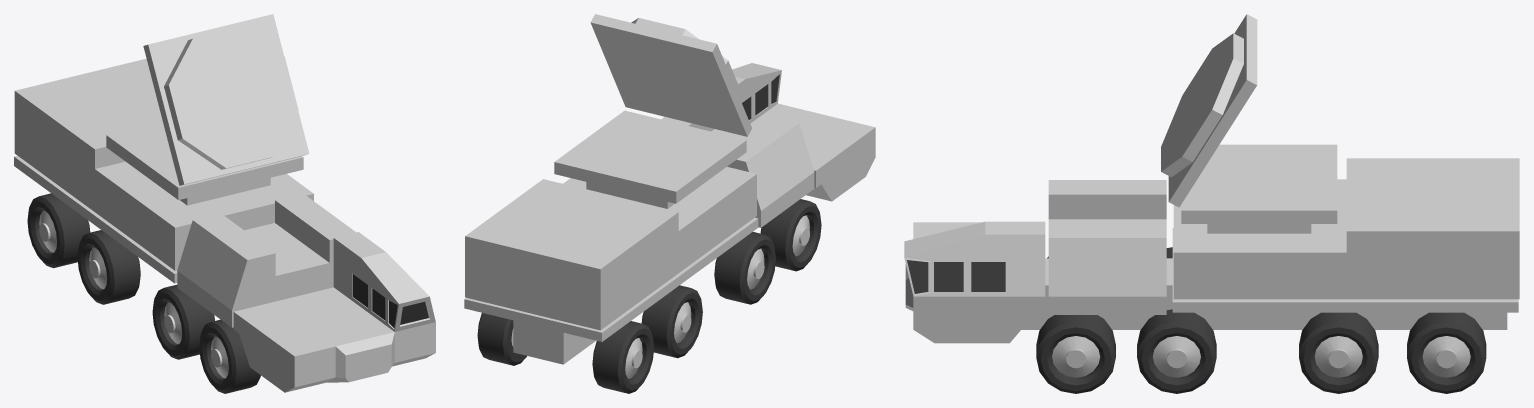
The model's file is TestRadarTruck.fbx.
The picture shows the model from 3 angles, left to right: view 1: azimuth 30°, elevation 25°; view 2: azimuth 150°, elevation 25°; view 3: azimuth 270°, elevation 25°; orthographic projection. The views are drawn at different scales.
Visible parts, largest first — view 1: 立方体.012, Radar, radarr, 柱体.002, 柱体.004, 立方体.008; view 2: radarr, Radar, 立方体.012, 柱体.002, 柱体.004, 立方体.008; view 3: 立方体.012, radarr, Radar, 柱体.002, 柱体.004, 立方体.008.
Part boxes in pixels (left/top/right/bottom): 立方体.012: left=14, top=155, right=435, bottom=392; Radar: left=106, top=14, right=309, bottom=205; radarr: left=14, top=58, right=313, bottom=270; 柱体.002: left=27, top=193, right=260, bottom=393; 柱体.004: left=39, top=210, right=228, bottom=378; 立方体.008: left=352, top=274, right=428, bottom=327; radarr: left=465, top=167, right=756, bottom=330; Radar: left=554, top=14, right=752, bottom=208; 立方体.012: left=464, top=63, right=875, bottom=364; 柱体.002: left=477, top=199, right=821, bottom=393; 柱体.004: left=511, top=215, right=809, bottom=378; 立方体.008: left=742, top=74, right=779, bottom=119; 立方体.012: left=904, top=180, right=1518, bottom=343; radarr: left=1173, top=158, right=1519, bottom=299; Radar: left=1161, top=14, right=1337, bottom=233; 柱体.002: left=1036, top=247, right=1486, bottom=393; 柱体.004: left=1052, top=336, right=1470, bottom=377; 立方体.008: left=907, top=260, right=1005, bottom=293.
Size of the model in its own units: 564 by 1044 by 1877.
Materials: 2 (1 with a texture image).
